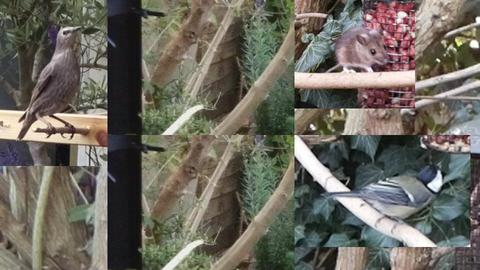great tit: (320, 160, 446, 234)
mouse: (299, 25, 390, 92)
starling: (18, 25, 82, 141)
